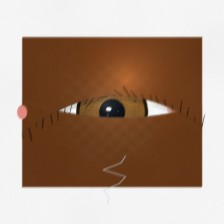foreign_body_visible: (111, 132, 136, 152)
